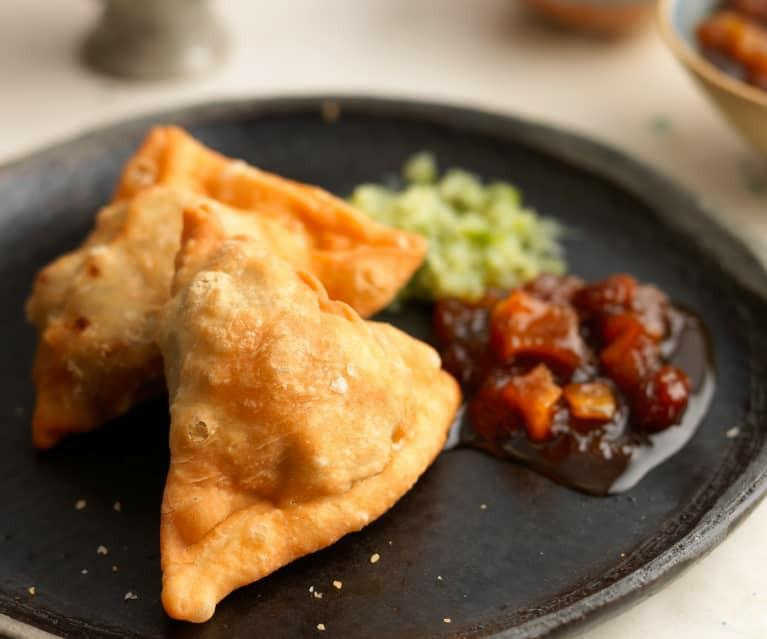Samosa: (20, 118, 433, 451), (164, 196, 459, 622)
